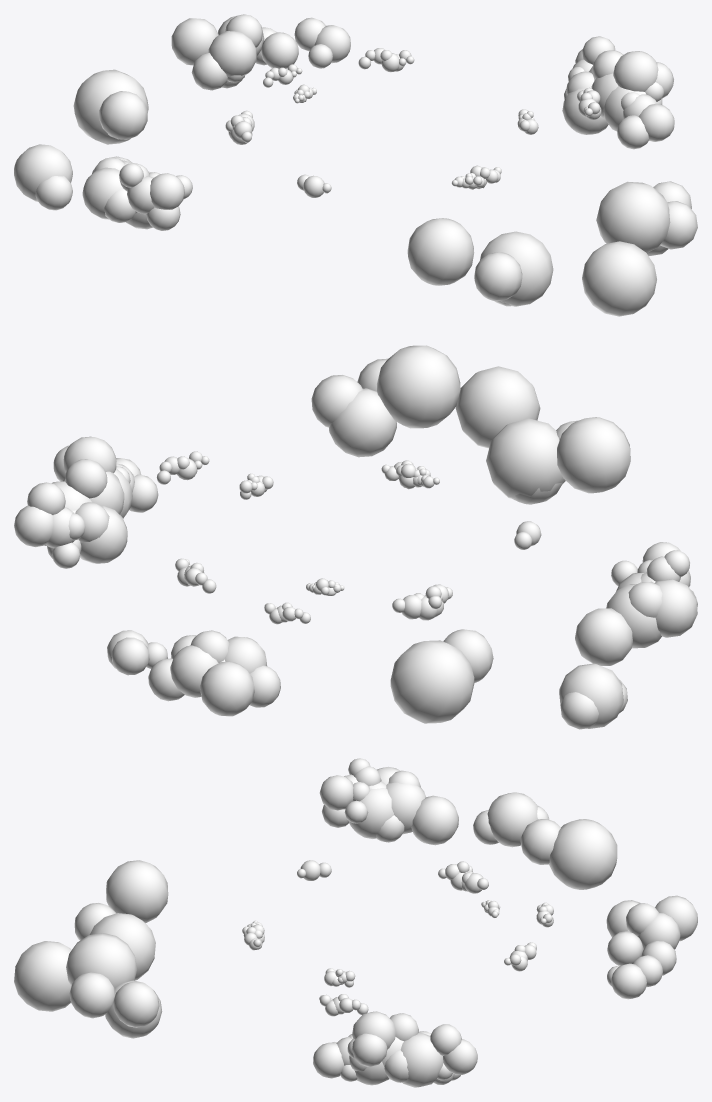
File: clouds_small.glb
3 renders of one model, top to bottom at view 1: azimuth 30°, elevation 25°; view 2: azimuth 150°, elevation 25°; view 3: azimuth 270°, elevation 25°, orthographic. The views are drawn at different scales.
Visible parts, largest first — view 1: clouds_small_1; view 2: clouds_small_1; view 3: clouds_small_1.
Part boxes in pixels (<box>): clouds_small_1: <box>14,14,697,316</box>; clouds_small_1: <box>14,345,697,729</box>; clouds_small_1: <box>14,758,697,1087</box>.
Bounding box in the file's own units: 41.9 × 7.59 × 45.6.
Materials: 1 (1 with a texture image).
